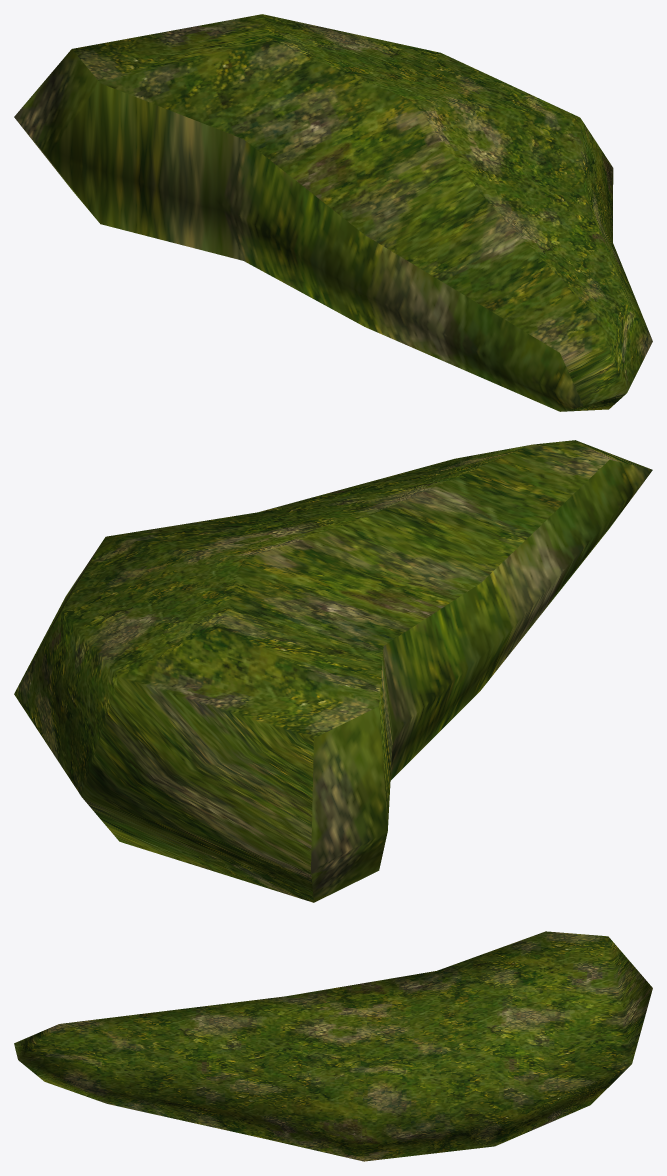
File: OVERHILL_A_01_LINE64.fbx
3 renders of one model, top to bottom at view 1: azimuth 30°, elevation 25°; view 2: azimuth 150°, elevation 25°; view 3: azimuth 270°, elevation 25°, orthographic. The views are drawn at different scales.
Parts seen in each view (by area): view 1: OVERHILL_A_01_LINE64; view 2: OVERHILL_A_01_LINE64; view 3: OVERHILL_A_01_LINE64.
Boxes of the visible parts, left/top/right/bottom form: OVERHILL_A_01_LINE64: left=14, top=14, right=652, bottom=411; OVERHILL_A_01_LINE64: left=14, top=440, right=652, bottom=902; OVERHILL_A_01_LINE64: left=14, top=931, right=652, bottom=1161.
Size of the model in its own units: 34946 by 12546 by 62064.
1 material, 1 textured.
